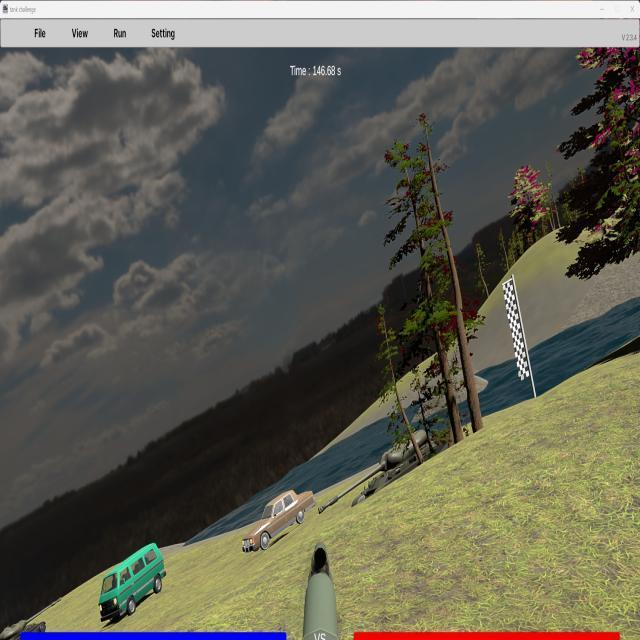Tank: (319, 431, 445, 516)
car: (99, 542, 166, 624), (241, 489, 316, 553)
